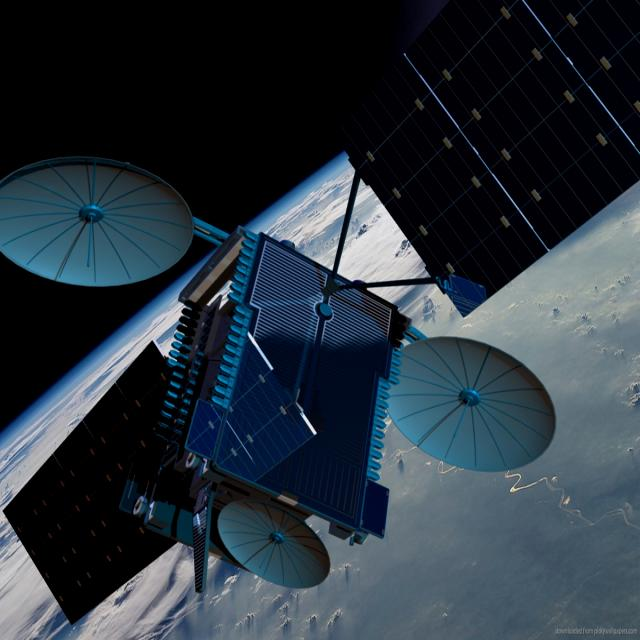satellite: (2, 2, 640, 640)
